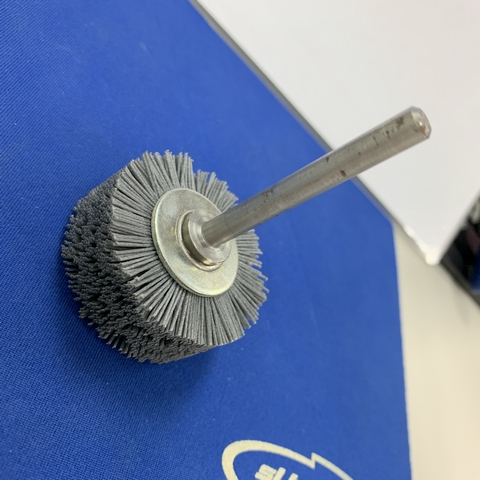Wheel Brush: (47, 84, 447, 382), (56, 111, 440, 364), (37, 143, 386, 359), (52, 142, 356, 360), (56, 143, 303, 370)
